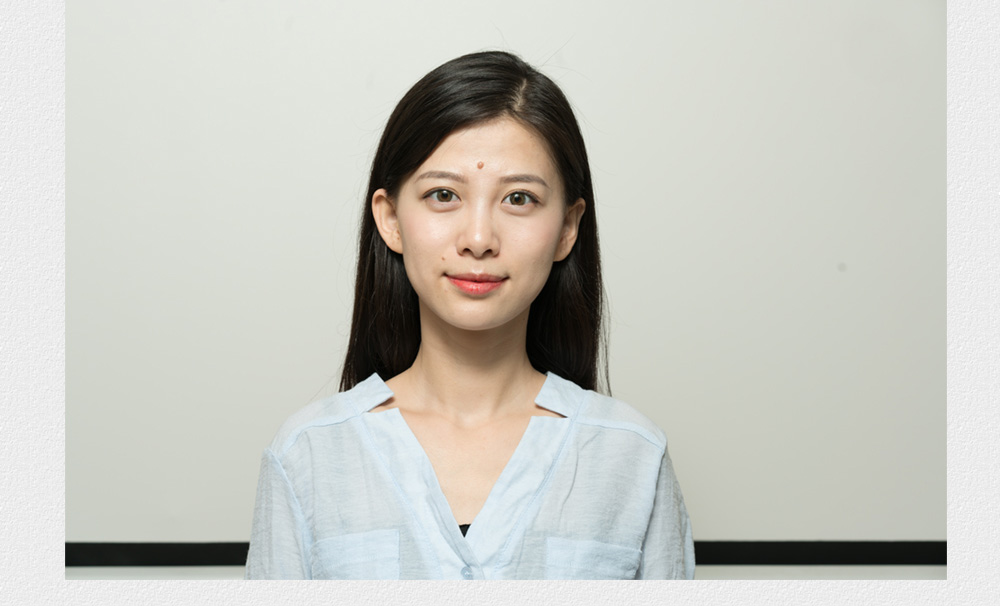unmask: (403, 121, 553, 312)
